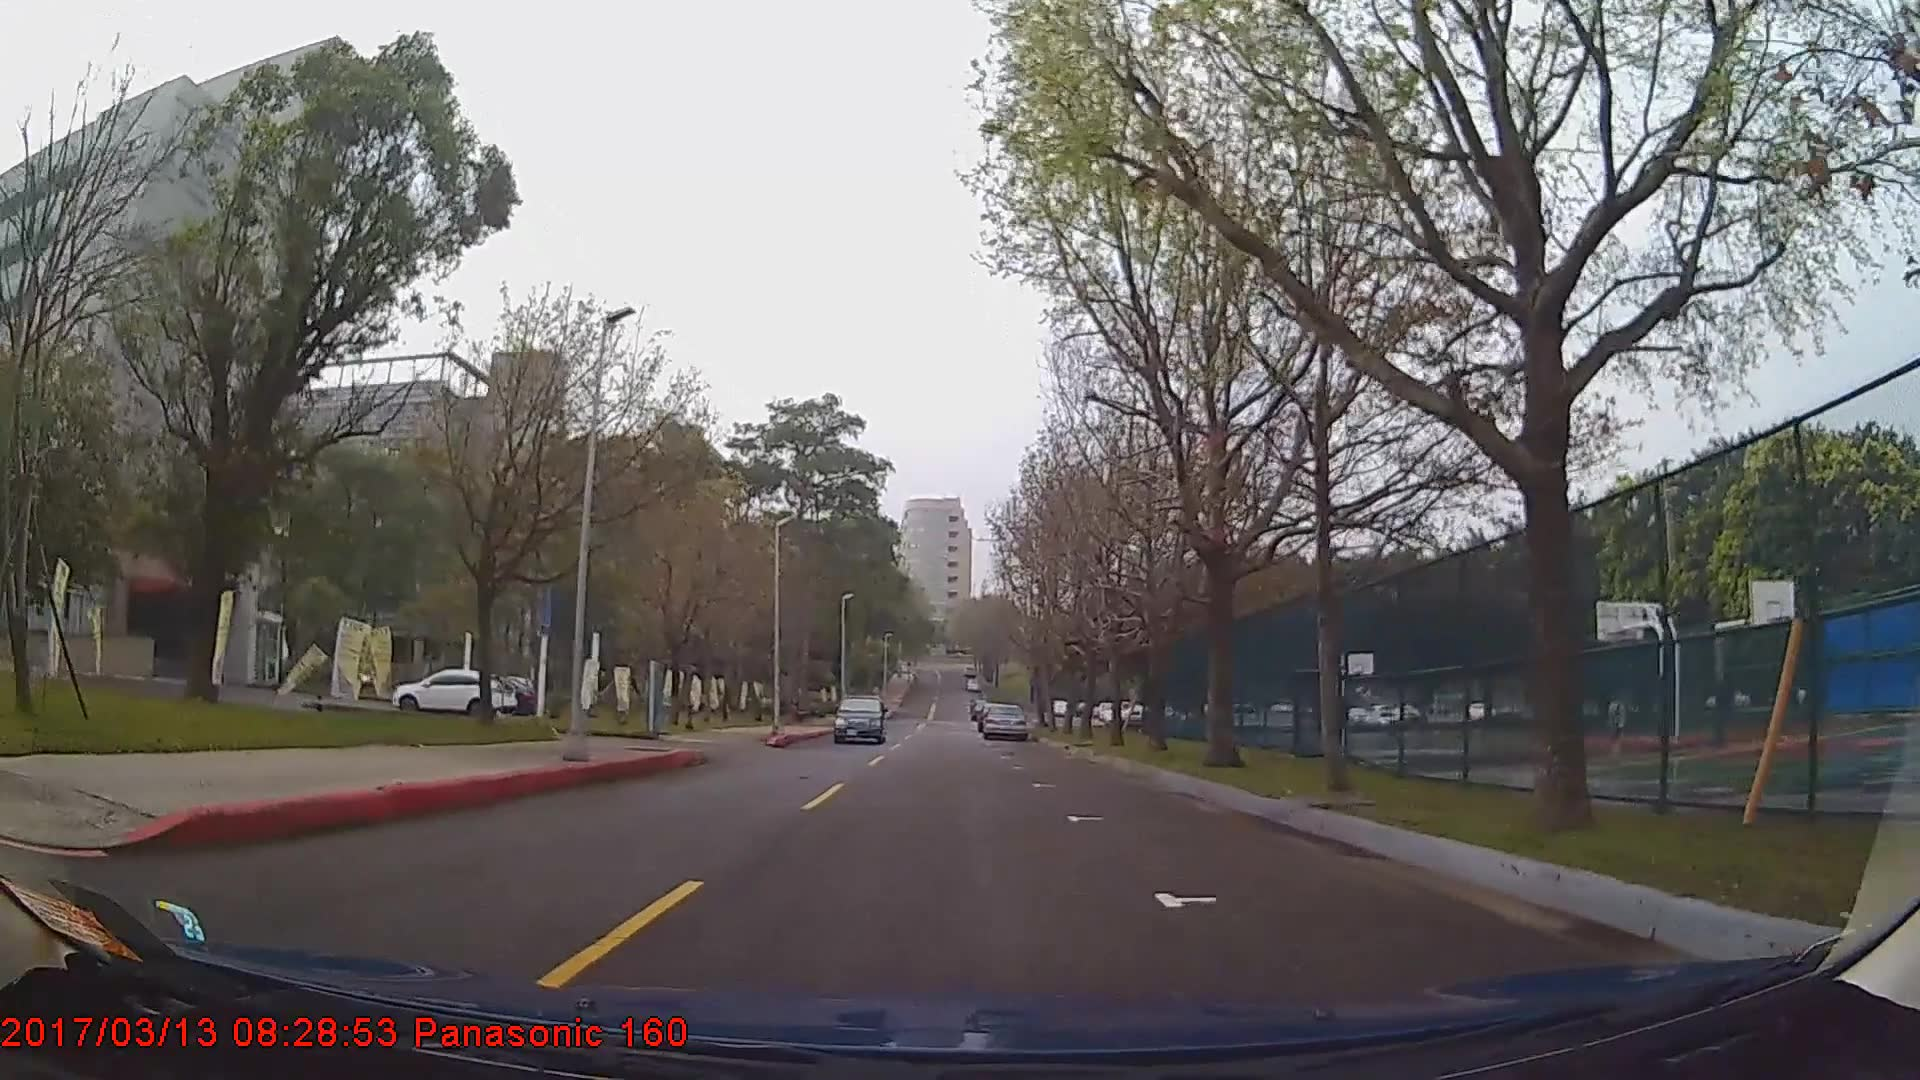vehicle: (389, 665, 516, 716), (833, 694, 885, 744), (980, 699, 1026, 740)
